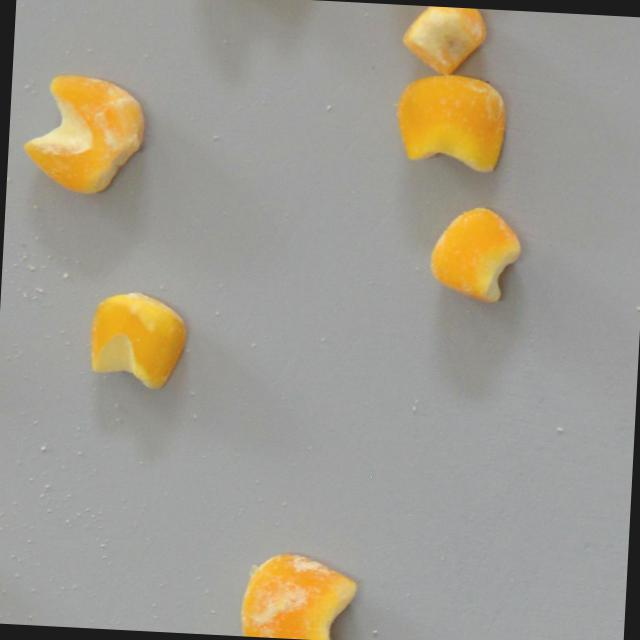no_canjicado: (88, 289, 189, 390), (427, 204, 524, 305)
pelicula: (20, 72, 148, 198), (391, 73, 509, 174), (239, 550, 359, 640)
punto_negro: (400, 4, 488, 76)
